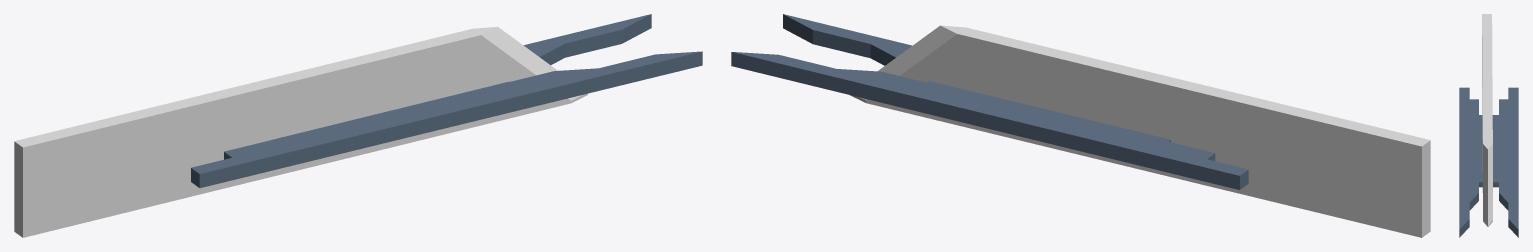
3 views of the same model, side by side, from view 1: azimuth 30°, elevation 25°; view 2: azimuth 150°, elevation 25°; view 3: azimuth 270°, elevation 25° (orthographic). The views are drawn at different scales.
Visible parts, largest first — view 1: 立方体.033, 立方体.025, 立方体.026, 立方体.030, 立方体.031; view 2: 立方体.033, 立方体.030, 立方体.031, 立方体.025, 立方体.032, 立方体.026; view 3: 立方体.033, 立方体.025, 立方体.030, 立方体.026, 立方体.031, 立方体.032.
Part boxes in pixels (<box>): 立方体.033: <box>14,26,587,237</box>; 立方体.025: <box>191,51,702,187</box>; 立方体.026: <box>224,68,597,159</box>; 立方体.030: <box>524,14,651,57</box>; 立方体.031: <box>532,43,564,64</box>; 立方体.033: <box>850,25,1430,237</box>; 立方体.030: <box>731,52,1248,189</box>; 立方体.031: <box>834,68,1215,160</box>; 立方体.025: <box>783,14,911,58</box>; 立方体.032: <box>927,81,1170,142</box>; 立方体.026: <box>870,43,903,65</box>; 立方体.033: <box>1482,14,1492,226</box>; 立方体.025: <box>1459,87,1469,237</box>; 立方体.030: <box>1508,87,1518,237</box>; 立方体.026: <box>1469,99,1478,210</box>; 立方体.031: <box>1499,99,1508,210</box>; 立方体.032: <box>1479,115,1498,187</box>.
Size of the model in its own units: 4.16 by 0.5449 by 0.5587.
